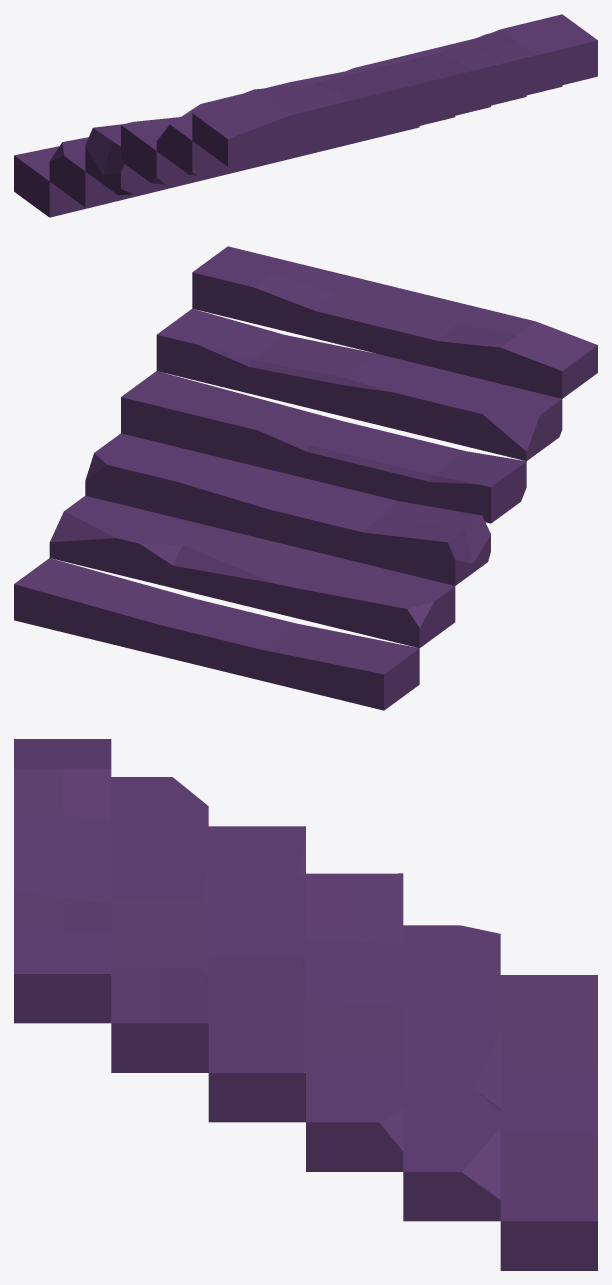
Rendered from Stairs_1.fbx.
The picture shows the model from 3 angles, top to bottom: view 1: azimuth 30°, elevation 25°; view 2: azimuth 150°, elevation 25°; view 3: azimuth 270°, elevation 25°; orthographic projection. The views are drawn at different scales.
Visible parts, largest first — view 1: Cube.006; view 2: Cube.006; view 3: Cube.006.
Boxes of the visible parts, bbox=[...] form: Cube.006: bbox=[14, 14, 597, 217]; Cube.006: bbox=[14, 246, 597, 710]; Cube.006: bbox=[14, 739, 597, 1270].
Size of the model in its own units: 676 by 380 by 677.
